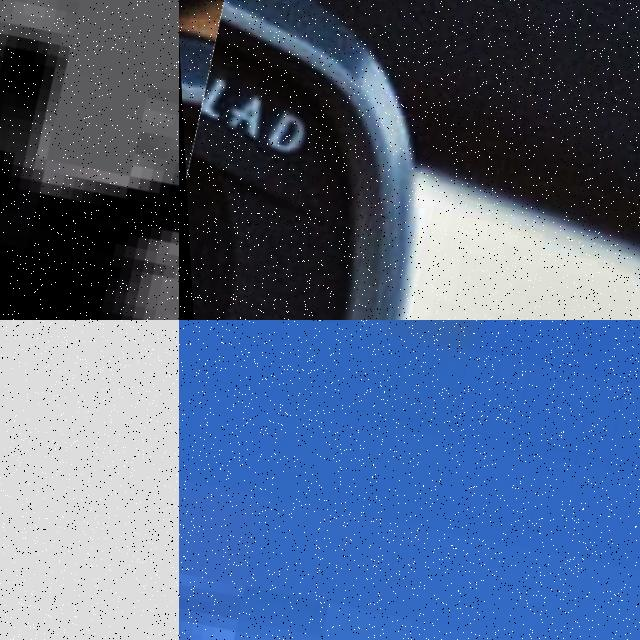drone: (179, 0, 640, 320), (179, 320, 640, 640), (0, 0, 179, 320)
